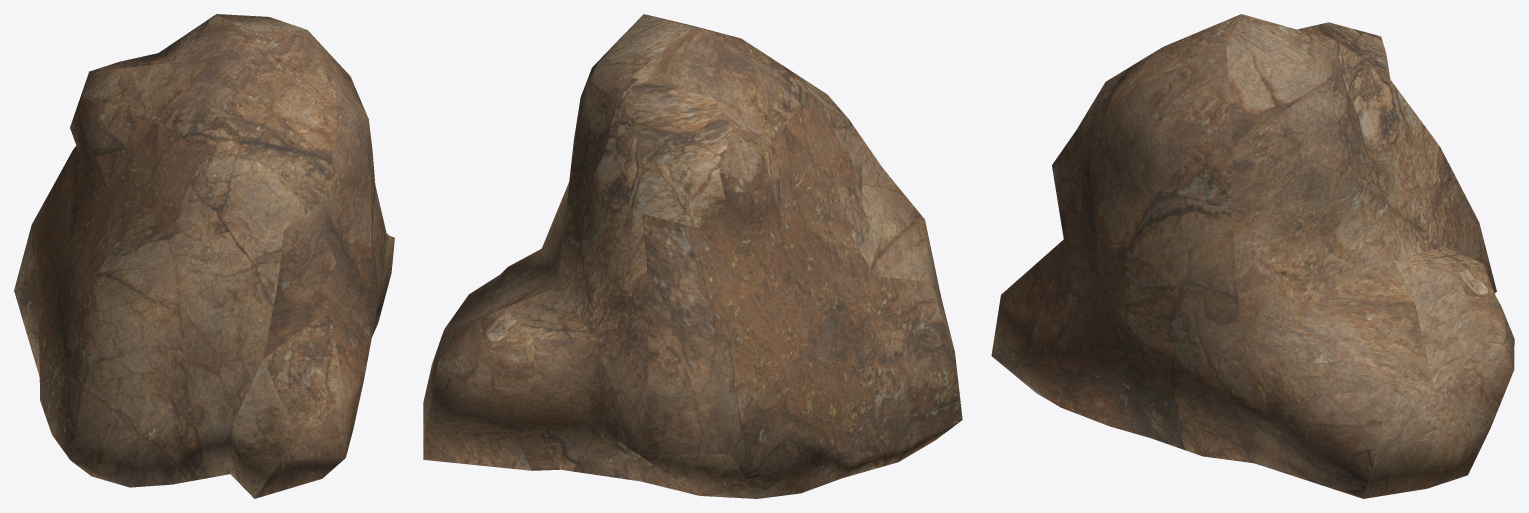
File: rock3.fbx
3 views of the same model, side by side, from view 1: azimuth 30°, elevation 25°; view 2: azimuth 150°, elevation 25°; view 3: azimuth 270°, elevation 25° (orthographic). The views are drawn at different scales.
Visible parts, largest first — view 1: Rock3; view 2: Rock3; view 3: Rock3.
Boxes of the visible parts, box(x1,y1,x2,y2) form: Rock3: box(14, 14, 394, 498); Rock3: box(423, 14, 962, 498); Rock3: box(991, 14, 1514, 498).
Bounding box in the file's own units: 222 × 202 × 240.
1 material, 1 textured.
